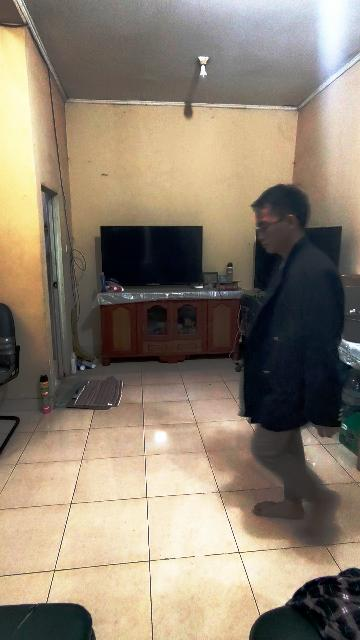berjalan: (232, 185, 342, 540)
